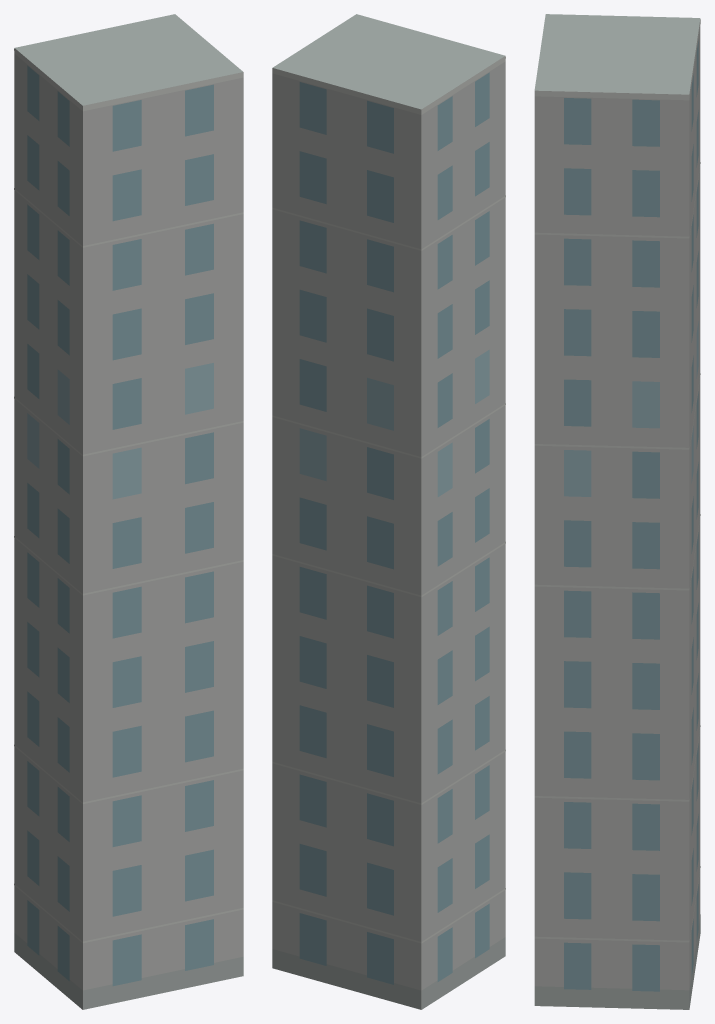
Rendered from survey-upis-32971081.glb.
The picture shows the model from 3 angles, left to right: view 1: azimuth 30°, elevation 25°; view 2: azimuth 150°, elevation 25°; view 3: azimuth 270°, elevation 25°; orthographic projection.
Parts seen in each view (by area): view 1: survey-upis-32971081.tmp; view 2: survey-upis-32971081.tmp; view 3: survey-upis-32971081.tmp.
Boxes of the visible parts, box(x1,y1,x2,y2) form: survey-upis-32971081.tmp: box(14, 14, 243, 1009); survey-upis-32971081.tmp: box(272, 14, 505, 1009); survey-upis-32971081.tmp: box(534, 14, 700, 1009).
Size of the model in its own units: 7.52 by 39.65 by 6.54.
